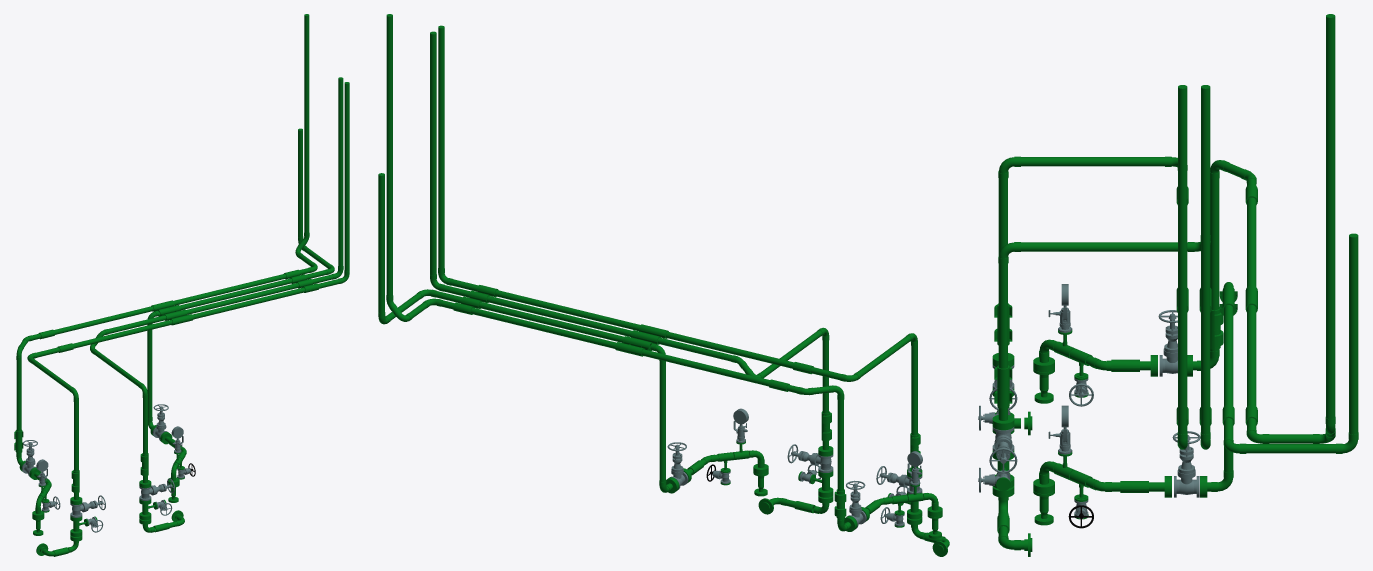
The model's file is Zone_P2_Piping_2.fbx.
The picture shows the model from 3 angles, left to right: view 1: azimuth 30°, elevation 25°; view 2: azimuth 150°, elevation 25°; view 3: azimuth 270°, elevation 25°; orthographic projection. The views are drawn at different scales.
Parts seen in each view (by area): view 1: Piping_Ens_04; view 2: Piping_Ens_04; view 3: Piping_Ens_04, Valve_04, Valve_07, Valve_02, Valve_010, Valve_09.
Part boxes in pixels (x1,y1,x2,y2): Piping_Ens_04: (14,14,349,556); Piping_Ens_04: (378,14,949,556); Piping_Ens_04: (992,14,1358,556); Valve_04: (1172,431,1200,497); Valve_07: (1158,310,1177,376); Valve_02: (989,427,1017,473); Valve_010: (1048,405,1072,454); Valve_09: (1048,284,1072,332).
Size of the model in its own units: 524 by 559 by 264.
